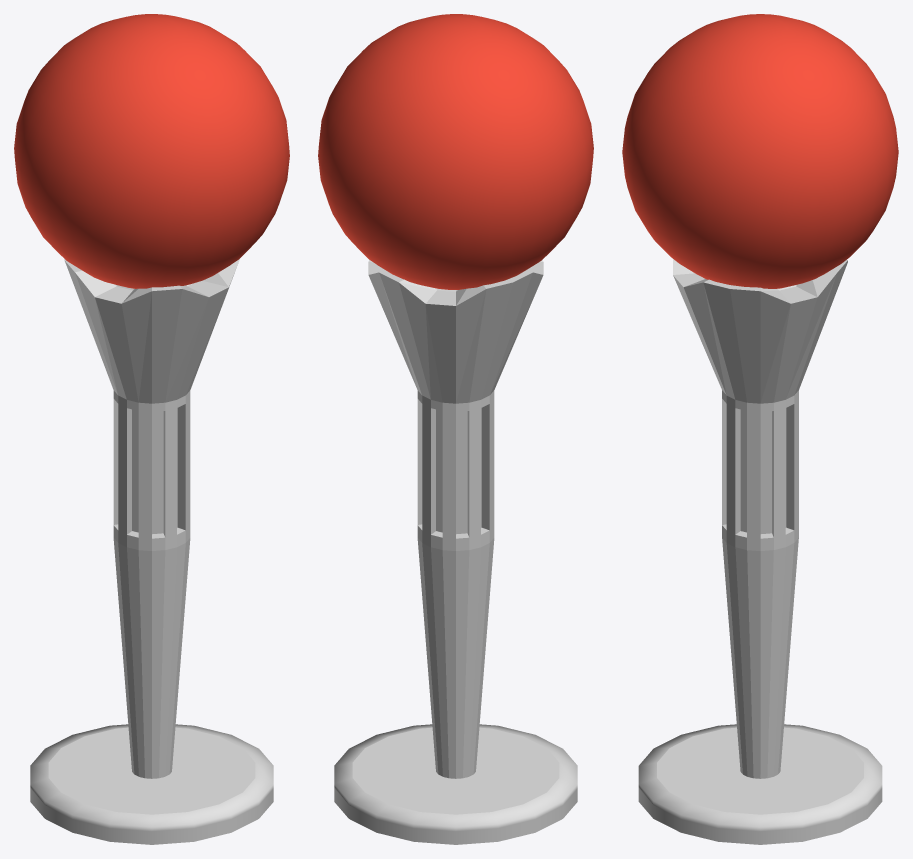
File: Lamp_On.fbx
3 views of the same model, side by side, from view 1: azimuth 30°, elevation 25°; view 2: azimuth 150°, elevation 25°; view 3: azimuth 270°, elevation 25° (orthographic).
Parts seen in each view (by area): view 1: Cylinder001, Sphere001; view 2: Cylinder001, Sphere001; view 3: Cylinder001, Sphere001.
Part boxes in pixels (x1=…): Cylinder001: x1=30, y1=259, x2=273, y2=844; Sphere001: x1=14, y1=14, x2=289, y2=288; Cylinder001: x1=334, y1=260, x2=577, y2=844; Sphere001: x1=318, y1=14, x2=593, y2=289; Cylinder001: x1=638, y1=259, x2=882, y2=844; Sphere001: x1=622, y1=14, x2=898, y2=288.
Bounding box in the file's own units: 6 × 6 × 18.34.
Materials: 2 (2 with a texture image).
